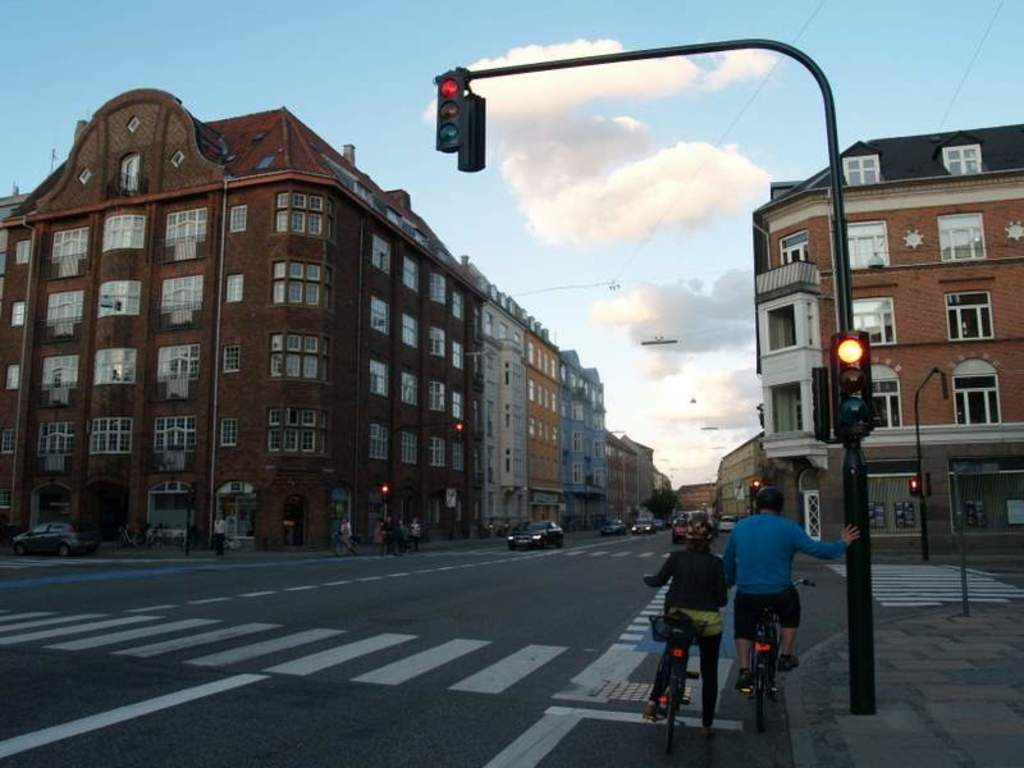red_light: (436, 72, 464, 149)
